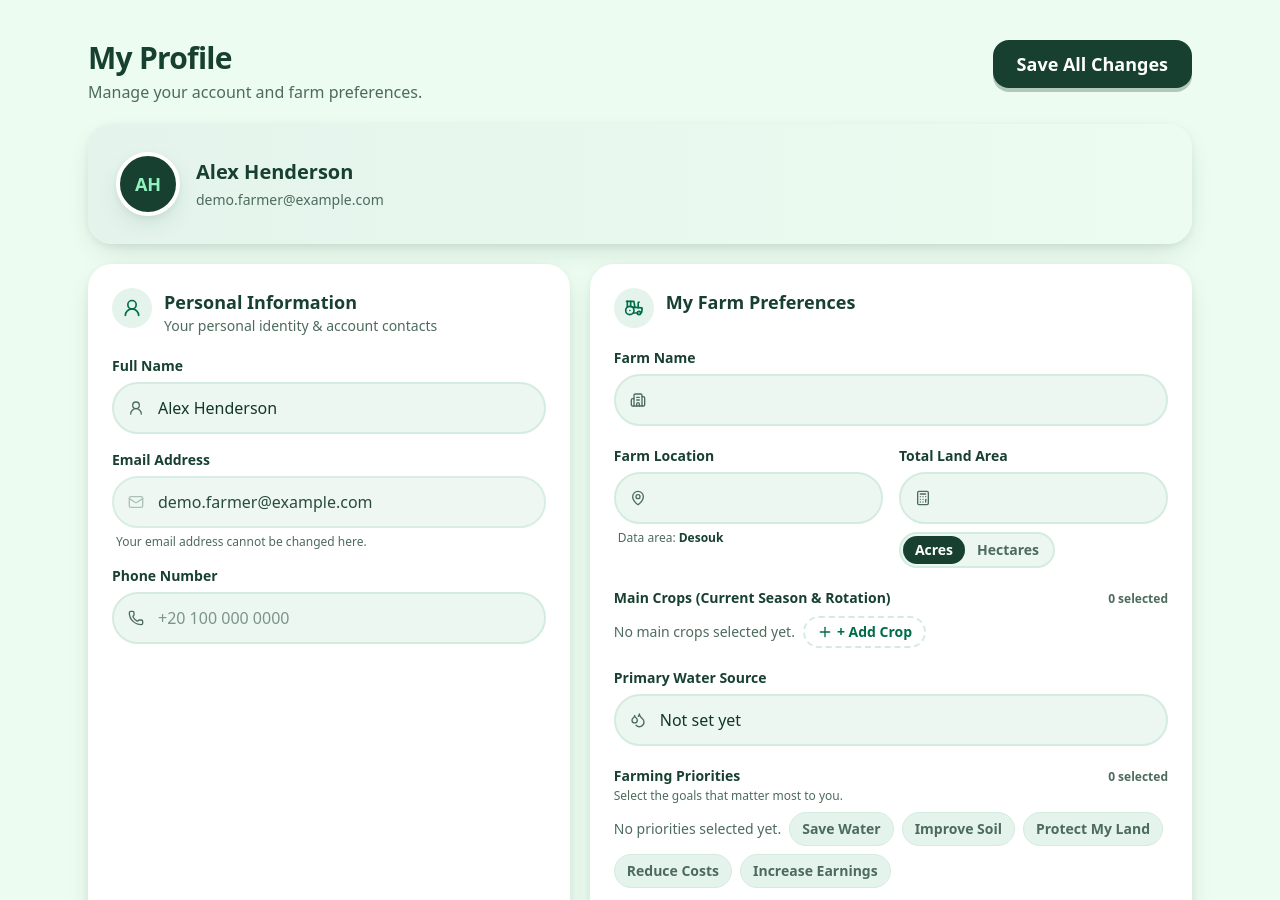
Scenario: profile page › adds a main crop and a priority from the pickers
This screenshot has width=1280, height=900.
Later steps or results of the test are not shown.
Step 1. Click the button "+ Add Crop" → (864, 632), box [803,616,926,648]
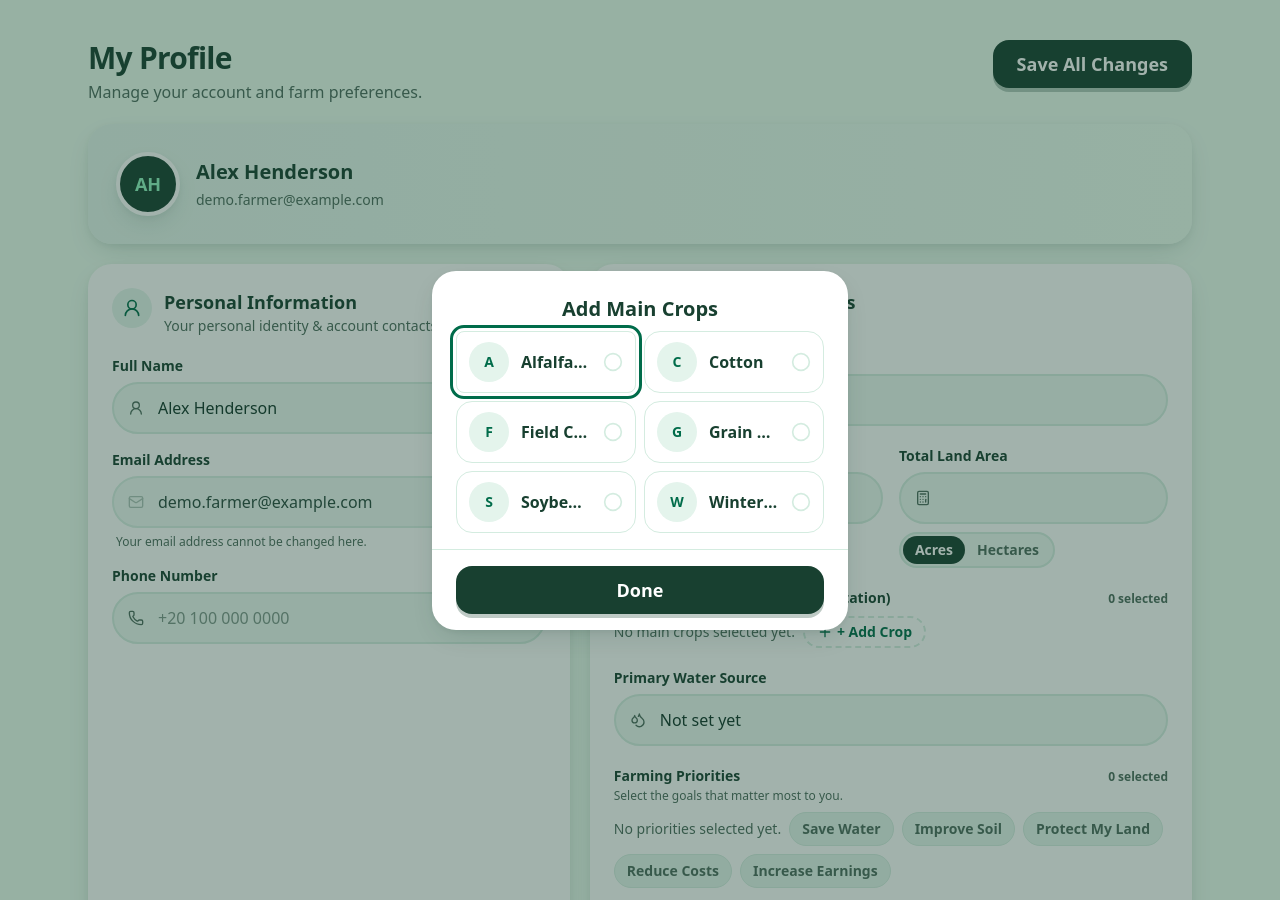
Result: the text "Field Corn" is shown at [521,420,591,444]
Step 2. Click the button "F Field Corn" → (546, 432), box [456,400,636,462]
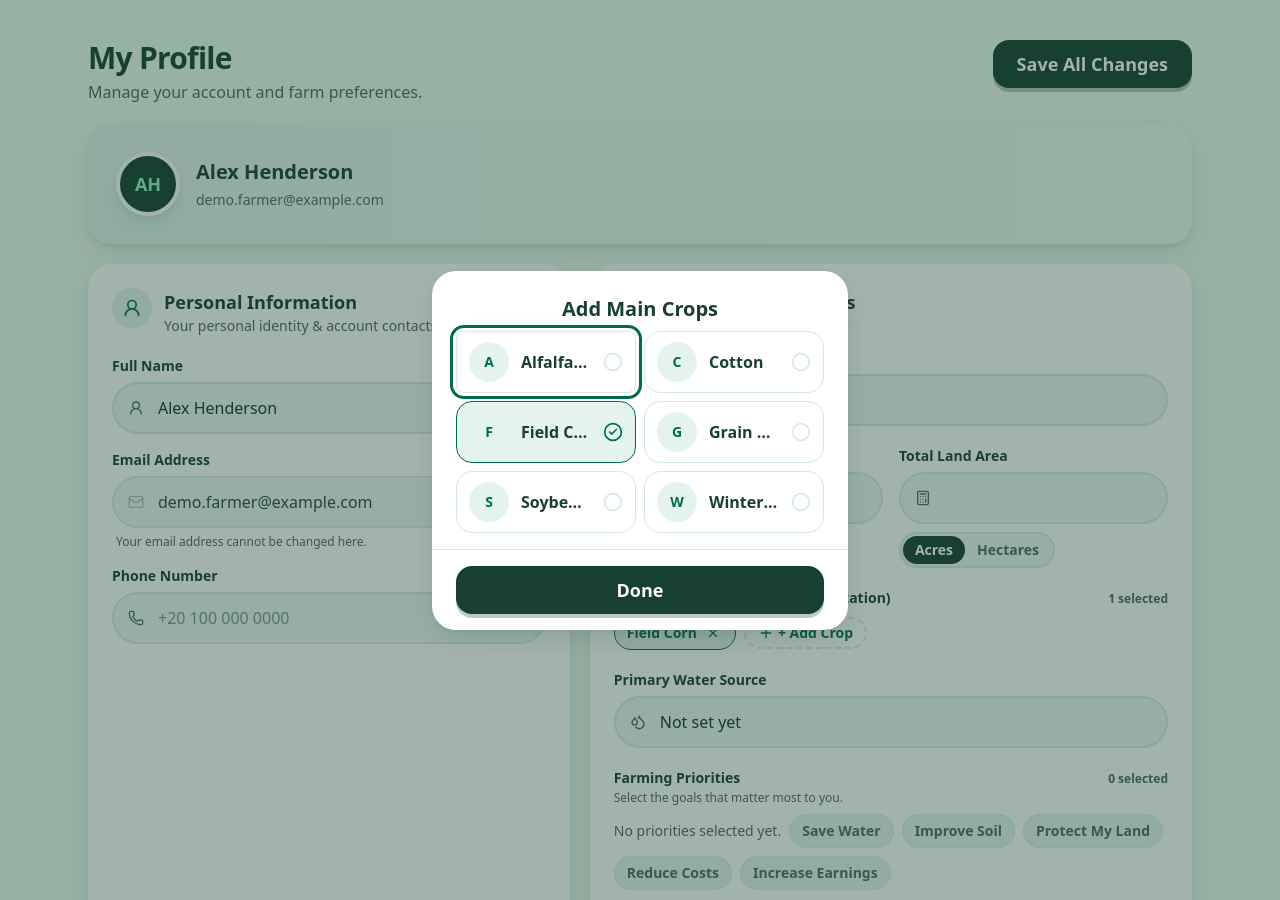
Step 3. Click the button "Done" → (640, 590), box [456,566,824,614]
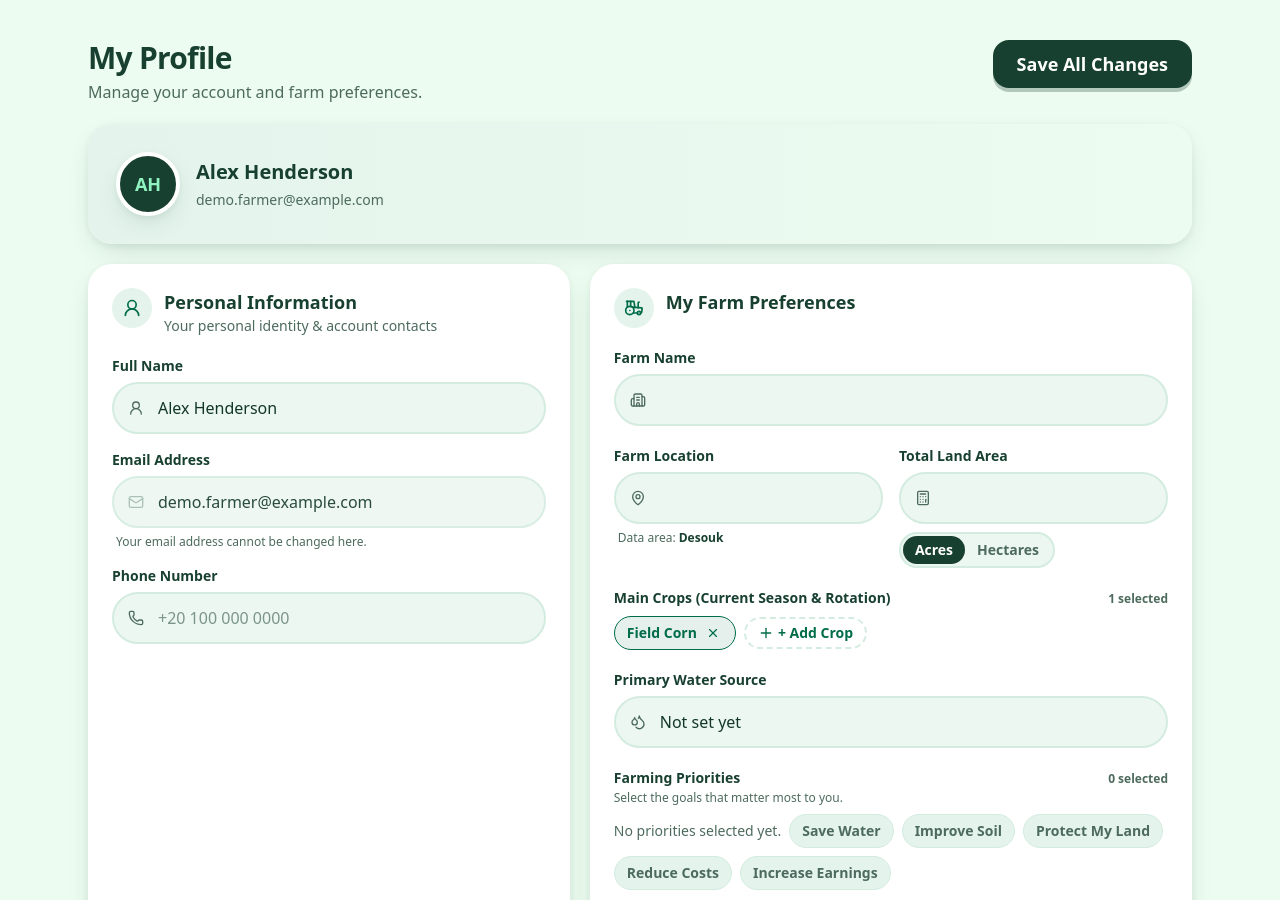
Result: the text "Field Corn" is shown at [614,616,736,650]
